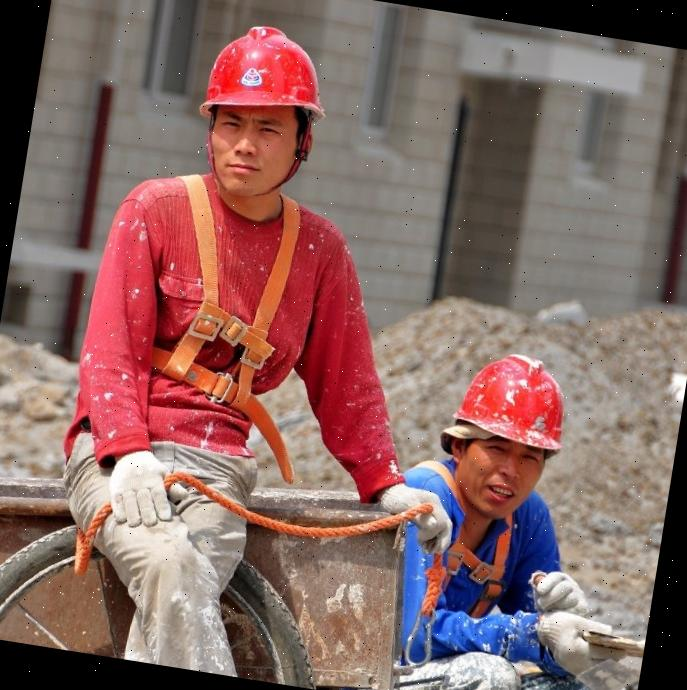helmet: (195, 13, 337, 129), (443, 346, 578, 458)
no_wear: (84, 188, 339, 482), (378, 488, 566, 666)
